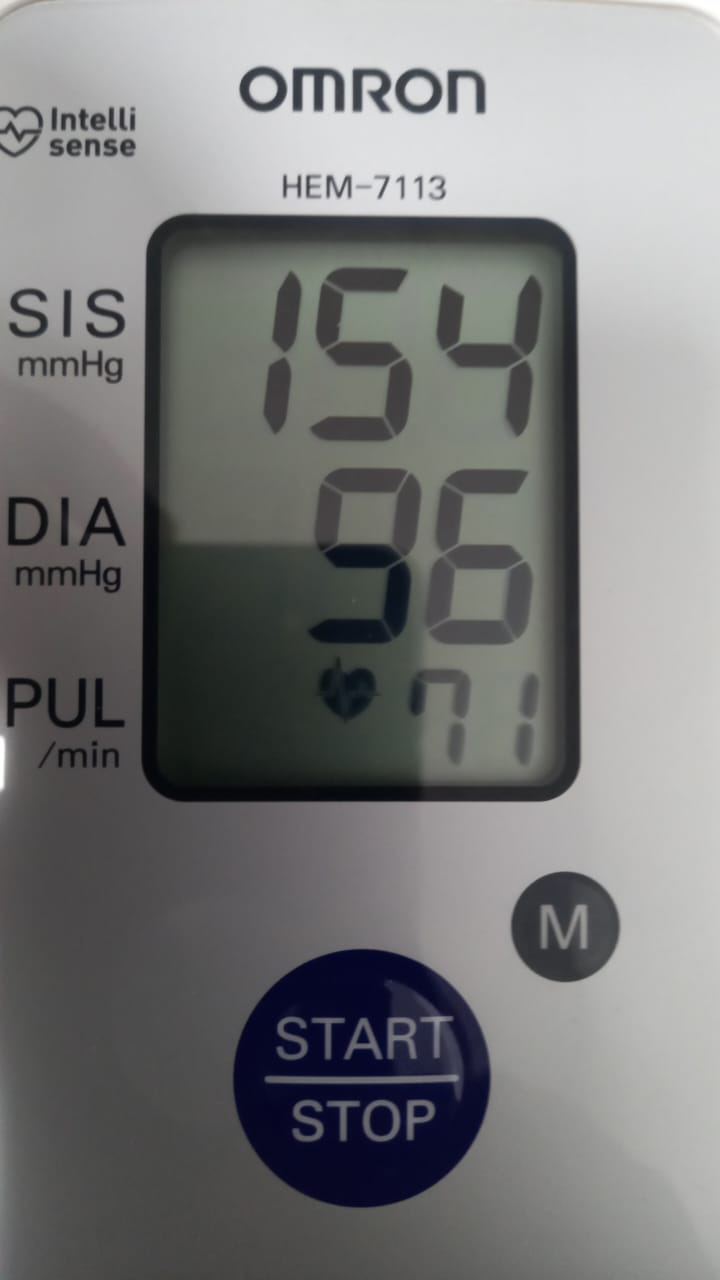display: (142, 209, 583, 813)
